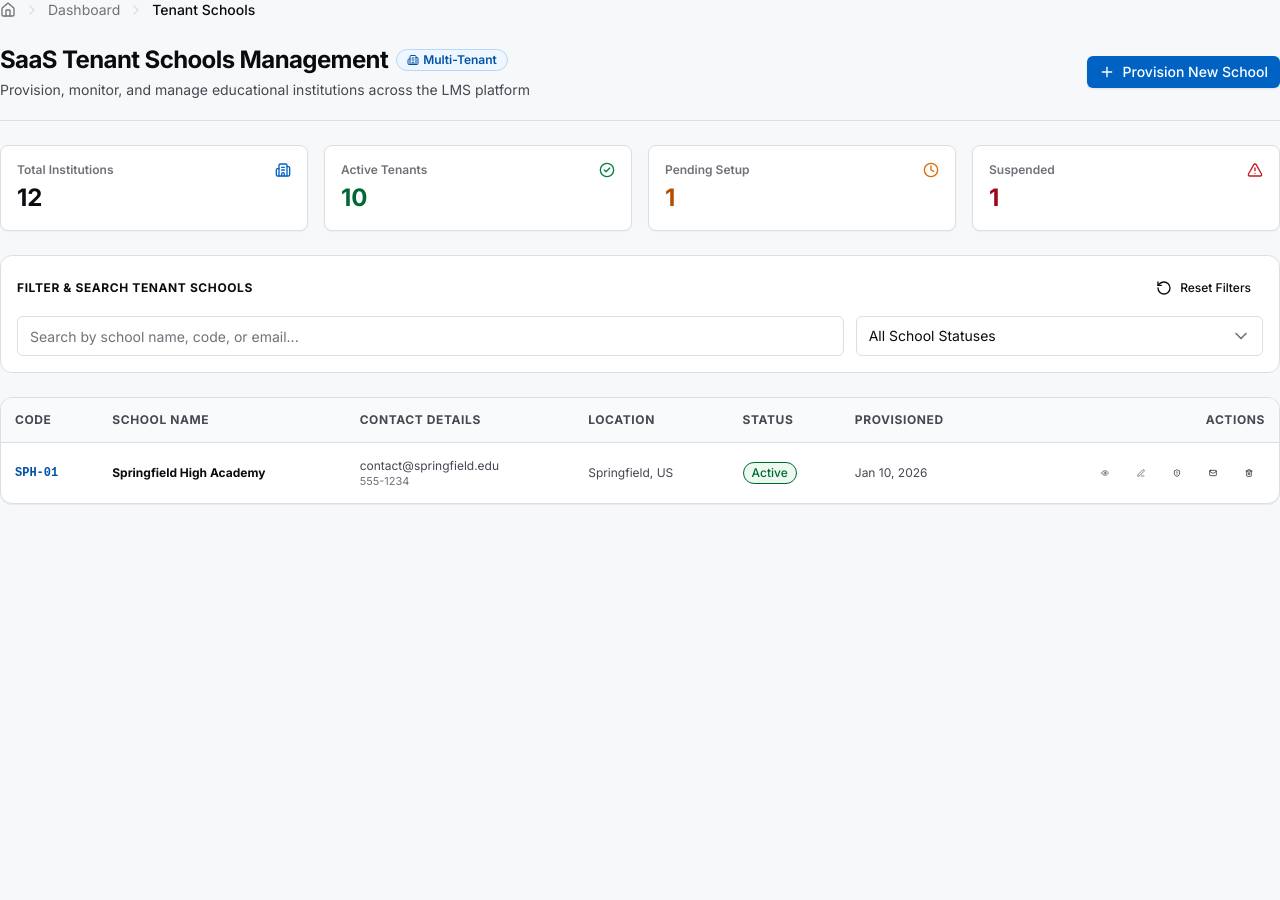
Test: SchoolsPage Component › should open delete confirmation modal when Delete button is clicked
The image size is (1280, 900).
Click the button named "Delete School": (1249, 473) [1233,457,1265,489]
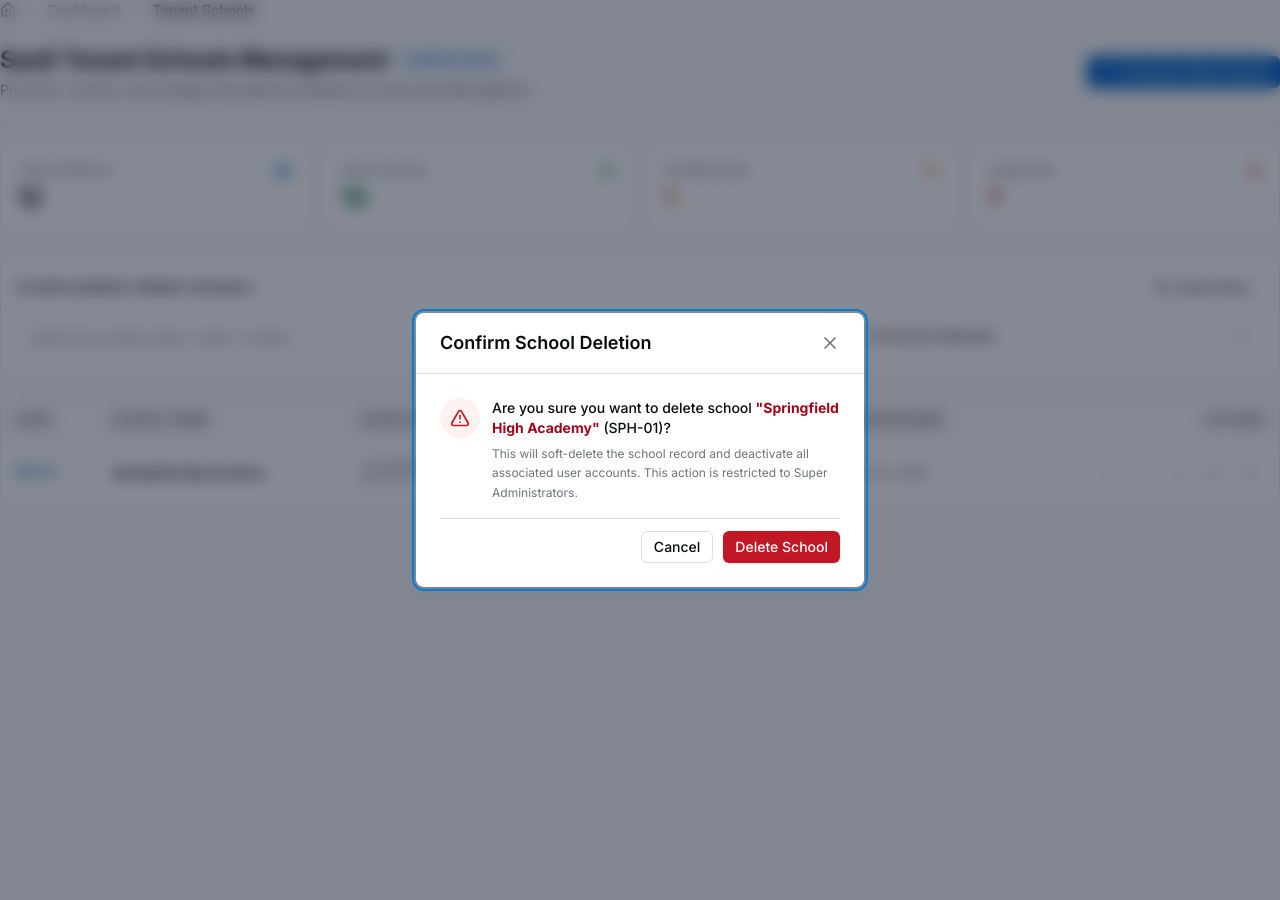
Check: the heading "Confirm School Deletion" is shown, box [440,329,652,357]
Check: the text "Are you sure you want to delete school" is shown, box [492,399,752,416]
